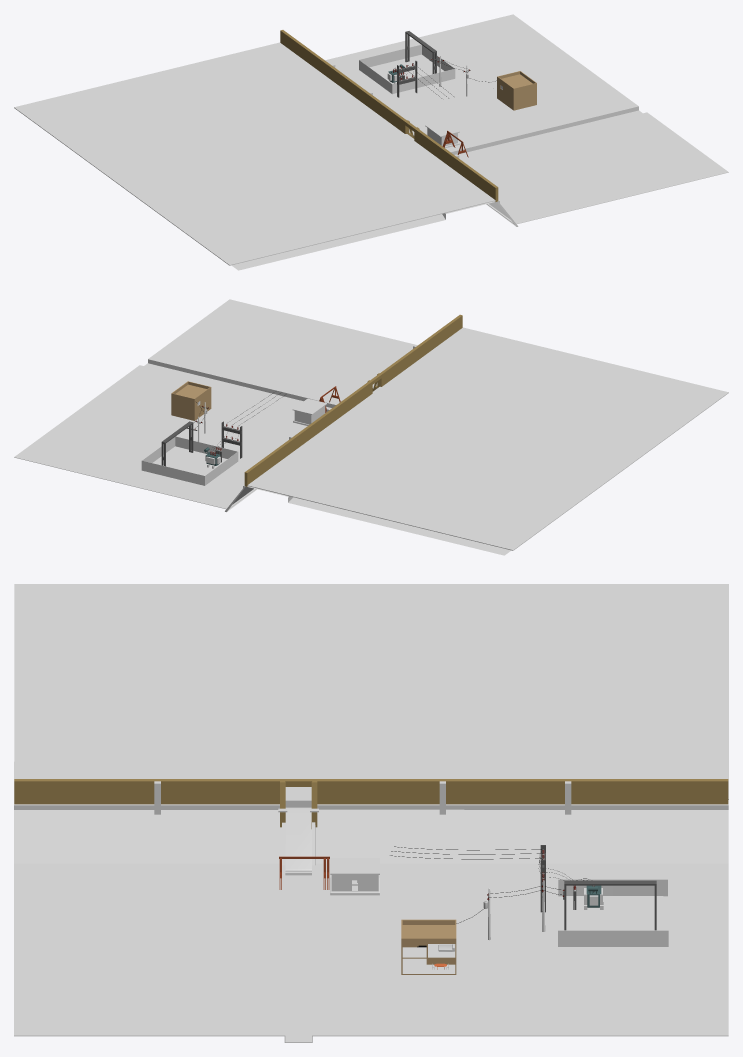
File: tidal energy dam.fbx
3 views of the same model, one above another, from view 1: azimuth 30°, elevation 25°; view 2: azimuth 150°, elevation 25°; view 3: azimuth 270°, elevation 25° (orthographic). The views are drawn at different scales.
Visible parts, largest first — view 1: water, base, dam gate, dam, power station fence, house, generator room; view 2: water, base, dam gate, dam, power station fence, house, generator room; view 3: water, base, dam, dam gate, power station fence, house, generator room, house floor, pole in plant.
Boxes of the visible parts, box(x1,y1,x2,y2) form: water: box(14, 42, 495, 265); base: box(325, 14, 728, 224); dam gate: box(280, 30, 498, 201); dam: box(231, 200, 518, 270); power station fence: box(359, 44, 455, 93); house: box(497, 71, 536, 110); generator room: box(425, 120, 459, 148); water: box(247, 327, 728, 550); base: box(14, 299, 417, 508); dam gate: box(244, 314, 462, 486); dam: box(225, 485, 511, 555); power station fence: box(141, 436, 238, 485); house: box(171, 381, 211, 420); generator room: box(292, 398, 327, 425); water: box(14, 584, 728, 807); base: box(14, 863, 728, 1042); dam: box(14, 762, 728, 875); dam gate: box(14, 779, 728, 828); power station fence: box(558, 879, 668, 946); house: box(401, 919, 456, 974); generator room: box(330, 858, 379, 895); house floor: box(402, 944, 455, 973); pole in plant: box(563, 880, 656, 930).
Size of the model in its own units: 15780 by 1455 by 11809.
